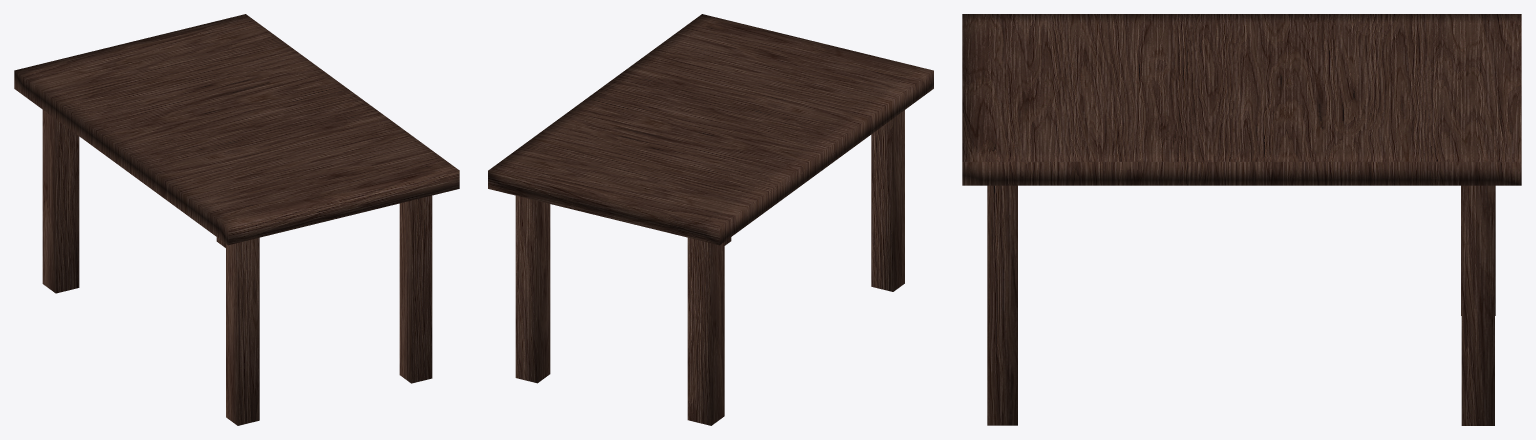
Rendered from tavolo.fbx.
3 views of the same model, side by side, from view 1: azimuth 30°, elevation 25°; view 2: azimuth 150°, elevation 25°; view 3: azimuth 270°, elevation 25° (orthographic). The views are drawn at different scales.
Visible parts, largest first — view 1: tavolo; view 2: tavolo; view 3: tavolo.
Part boxes in pixels (bbox=[...]): tavolo: bbox=[14, 14, 459, 425]; tavolo: bbox=[488, 14, 933, 425]; tavolo: bbox=[962, 14, 1521, 425].
Bounding box in the file's own units: 88.01 × 76.45 × 141.
